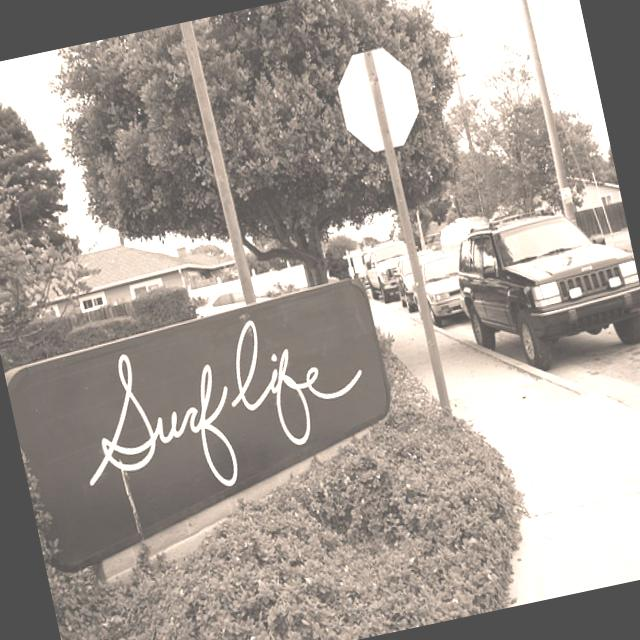Vehicle: (442, 191, 640, 384), (390, 246, 448, 314), (360, 239, 416, 306), (417, 252, 470, 319), (192, 284, 272, 318)
